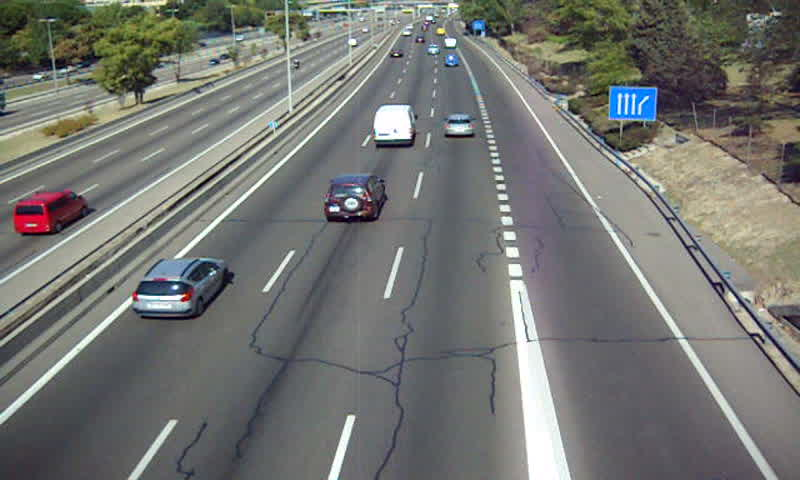car: (133, 256, 227, 319), (323, 174, 385, 224), (443, 115, 476, 138), (444, 53, 460, 69)
van: (373, 105, 416, 148)
